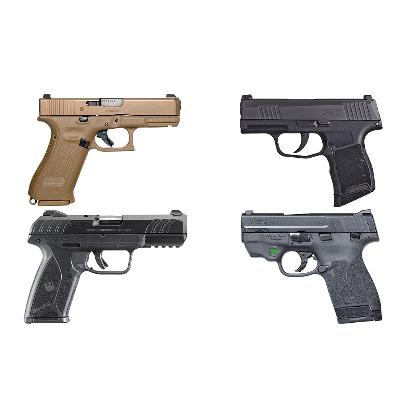gun: (22, 207, 190, 323), (26, 94, 182, 204), (240, 207, 382, 322), (236, 93, 384, 203)
